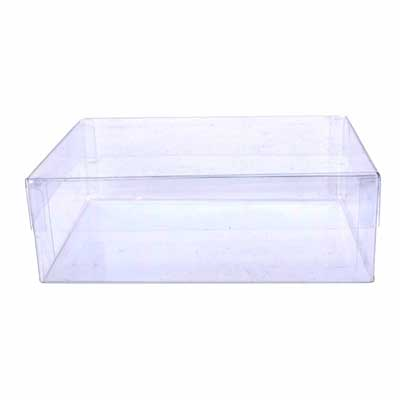PlasticBox: (22, 111, 383, 288)
